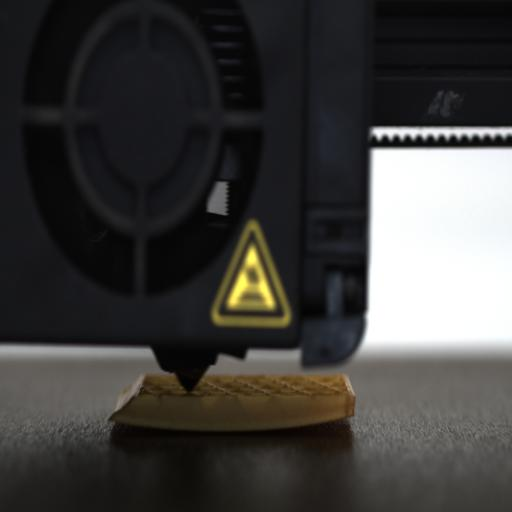warp: (111, 401, 342, 432)
